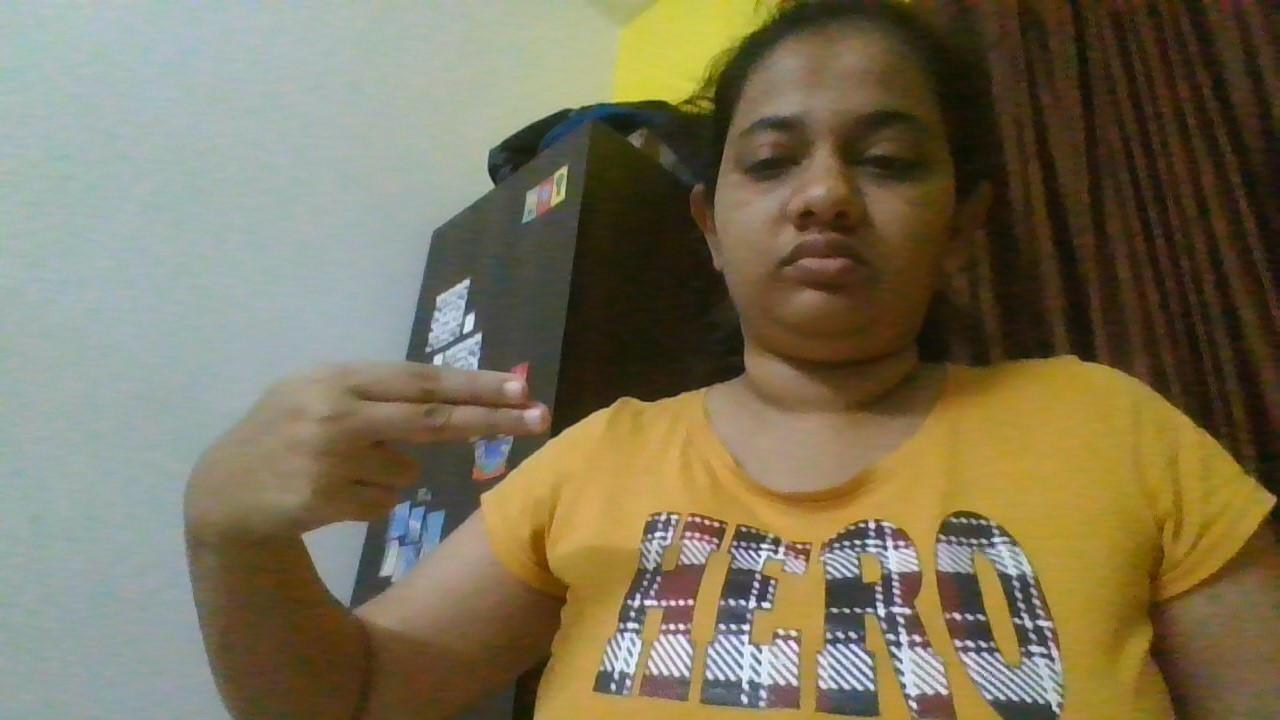h: (145, 359, 575, 559)
